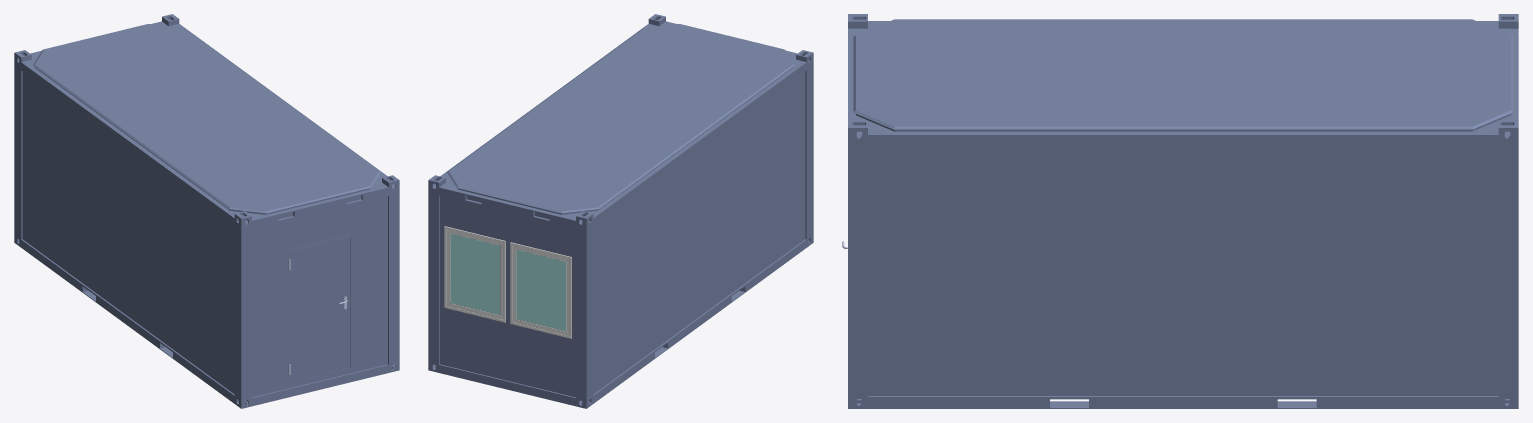
Rendered from Büro stirnseitig HC 2800 BC 2430.obj.
3 renders of one model, left to right at view 1: azimuth 30°, elevation 25°; view 2: azimuth 150°, elevation 25°; view 3: azimuth 270°, elevation 25°, orthographic. The views are drawn at different scales.
Visible parts, largest first — view 1: |Test_Bürocontainer~0|Root|Test-Büro2~0-1|color, |Test_Bürocontainer~0|Root|Cont-Tür~0-2|color-2; view 2: |Test_Bürocontainer~0|Root|Test-Büro2~0-1|color, |Test_Bürocontainer~0|Root|Cont-Fenster~0-3|color-4, |Test_Bürocontainer~0|Root|Cont-Fenster~0-1|color-4, |Test_Bürocontainer~0|Root|Cont-Fenster~0-3|color-5, |Test_Bürocontainer~0|Root|Cont-Fenster~0-1|color-5; view 3: |Test_Bürocontainer~0|Root|Test-Büro2~0-1|color.
Part boxes in pixels (bbox=[...]): |Test_Bürocontainer~0|Root|Test-Büro2~0-1|color: bbox=[14, 14, 399, 408]; |Test_Bürocontainer~0|Root|Cont-Tür~0-2|color-2: bbox=[287, 234, 352, 385]; |Test_Bürocontainer~0|Root|Test-Büro2~0-1|color: bbox=[428, 14, 813, 408]; |Test_Bürocontainer~0|Root|Cont-Fenster~0-3|color-4: bbox=[516, 250, 566, 330]; |Test_Bürocontainer~0|Root|Cont-Fenster~0-1|color-4: bbox=[450, 233, 499, 314]; |Test_Bürocontainer~0|Root|Cont-Fenster~0-3|color-5: bbox=[510, 242, 571, 338]; |Test_Bürocontainer~0|Root|Cont-Fenster~0-1|color-5: bbox=[444, 226, 505, 322]; |Test_Bürocontainer~0|Root|Test-Büro2~0-1|color: bbox=[848, 14, 1518, 408].
Size of the model in its own units: 2.43 by 2.8 by 6.11.
